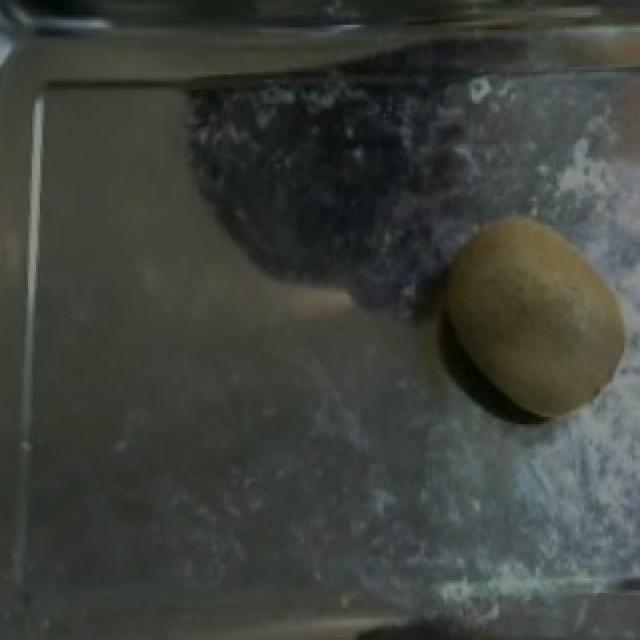Fruit: (428, 206, 640, 432)
